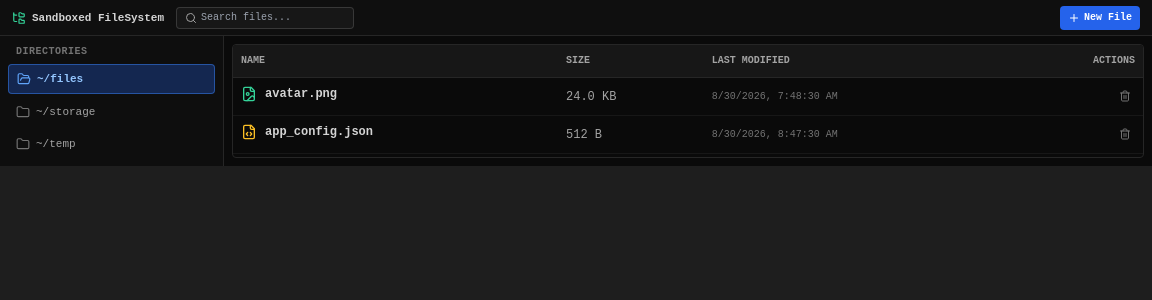
Test: Milestone 4: Multi-Lane Debugger & Storage Suite › 6. FileSystemBrowser Component › allows previewing text and JSON files
What coordinates should you click on to do the following:
click the text "app_config.json"
I would click on:
 (319, 132)
Its box is x1=265 y1=124 x2=373 y2=140.
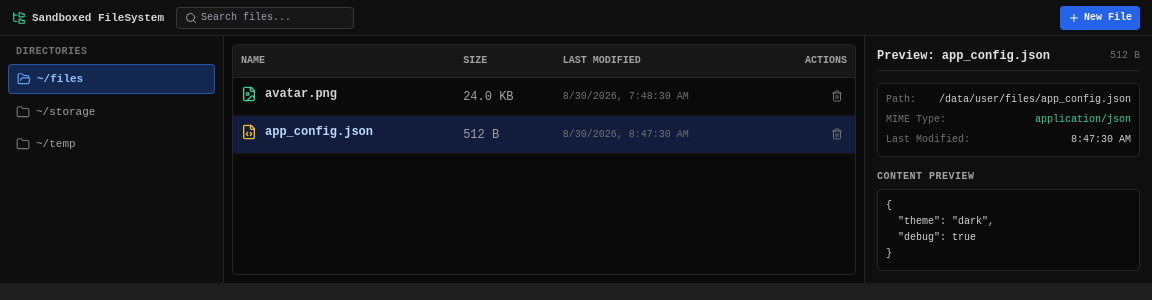
Expected: the text "Preview: app_config.json" is shown, x1=877 y1=48 x2=1050 y2=64
Expected: the text "{ \"theme\": \"dark\", \"debug\": true }" is shown, x1=877 y1=189 x2=1140 y2=271
